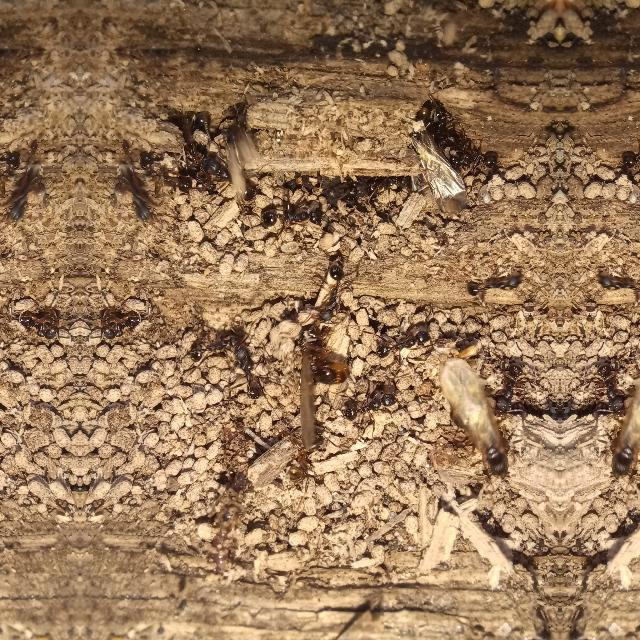Apheanogaster: (413, 91, 472, 173), (300, 318, 346, 394), (372, 316, 436, 370), (463, 258, 529, 310), (257, 192, 327, 240), (172, 143, 228, 203), (183, 318, 243, 372), (313, 250, 353, 330), (338, 383, 400, 433), (228, 334, 268, 406), (488, 352, 528, 421), (592, 352, 632, 421), (590, 258, 640, 308), (449, 138, 505, 180), (13, 302, 62, 348), (98, 302, 146, 348), (614, 136, 640, 180), (138, 144, 168, 170), (0, 142, 22, 170)
